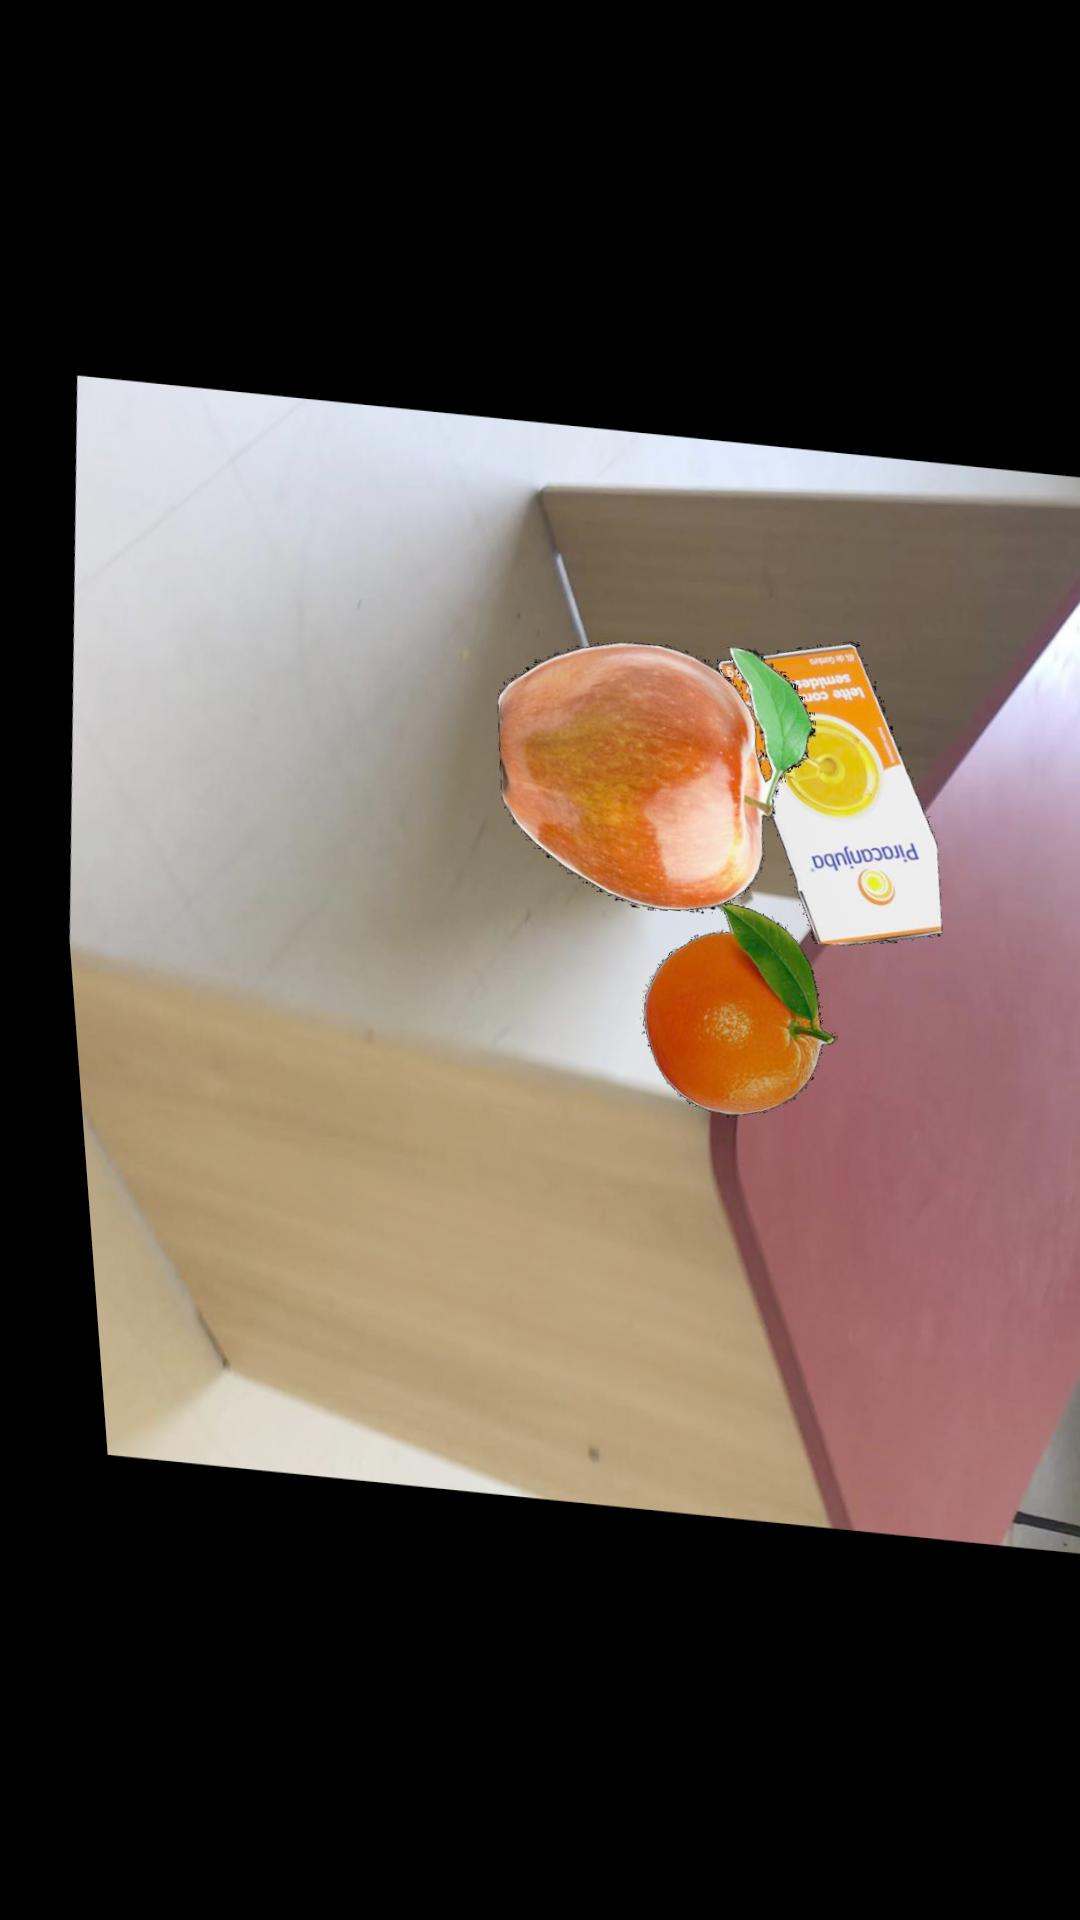orange: (628, 903, 819, 1117)
